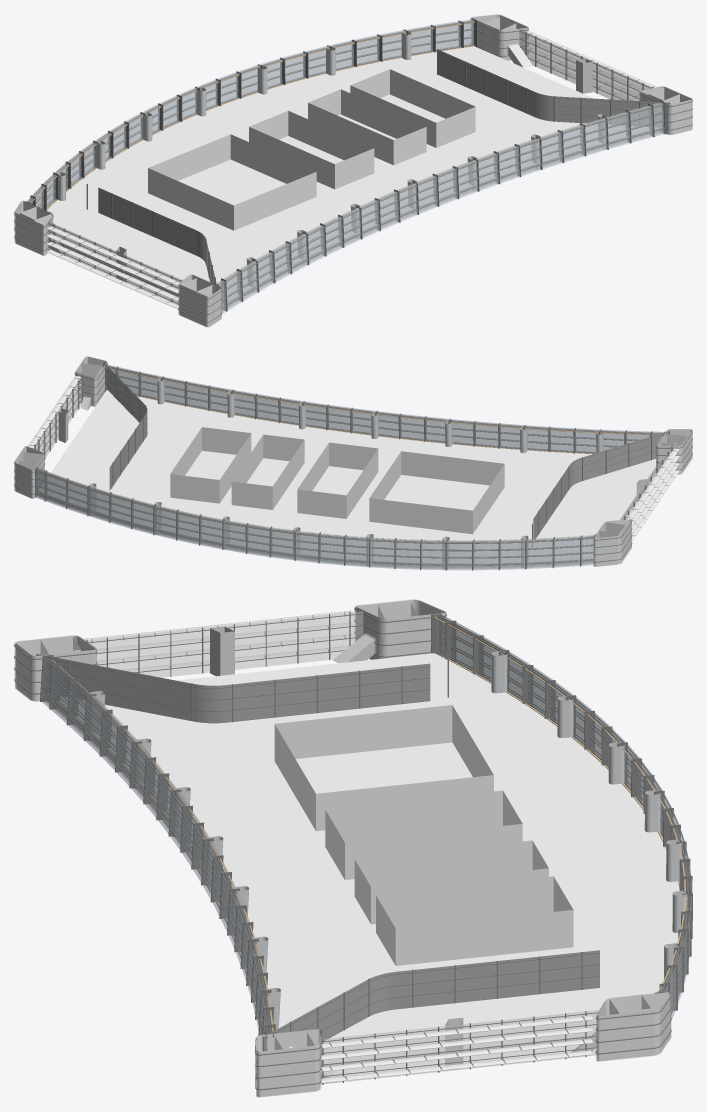
3 views of the same model, one above another, from view 1: azimuth 30°, elevation 25°; view 2: azimuth 150°, elevation 25°; view 3: azimuth 270°, elevation 25° (orthographic). The views are drawn at different scales.
Parts seen in each view (by area): view 1: floor.015; view 2: floor.015; view 3: floor.015.
Part boxes in pixels (x1=…): floor.015: x1=14, y1=14, x2=692, y2=327; floor.015: x1=14, y1=356, x2=692, y2=570; floor.015: x1=14, y1=599, x2=692, y2=1097.
Size of the model in its own units: 81.82 by 3.81 by 51.79.
Materials: 14 (1 with a texture image).
